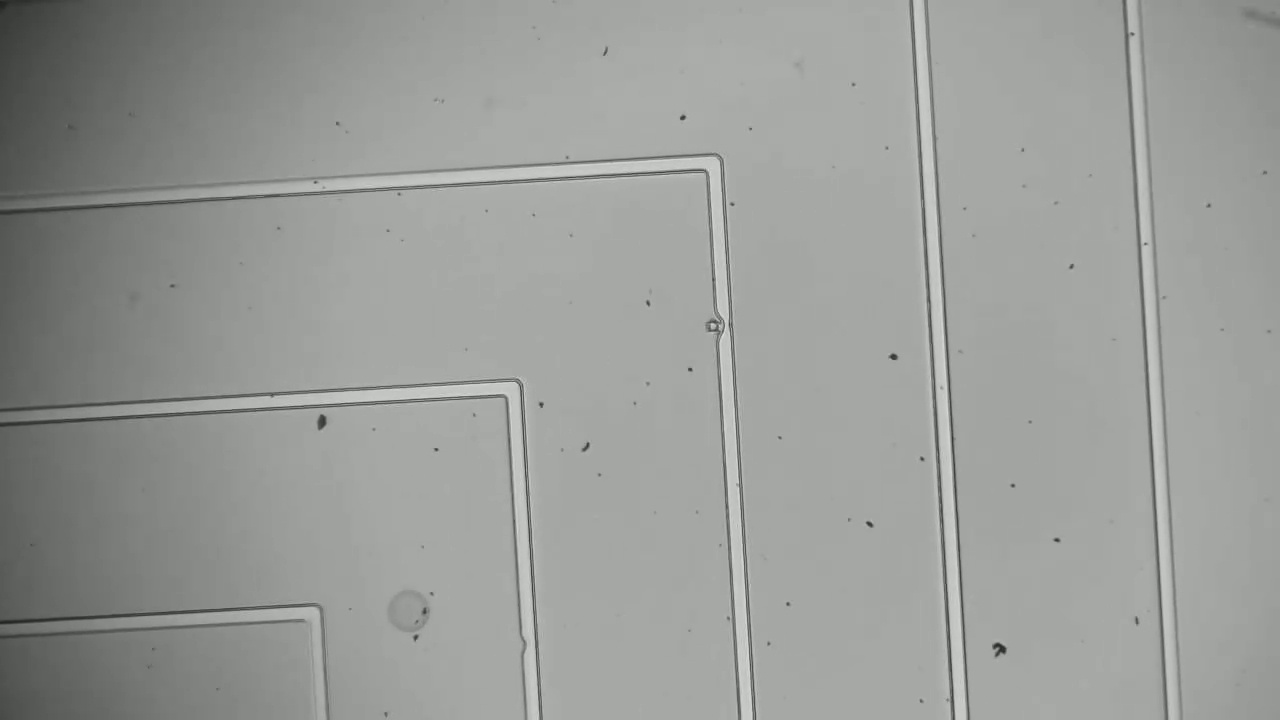edge_bite: (699, 299, 740, 346), (509, 625, 552, 666)
